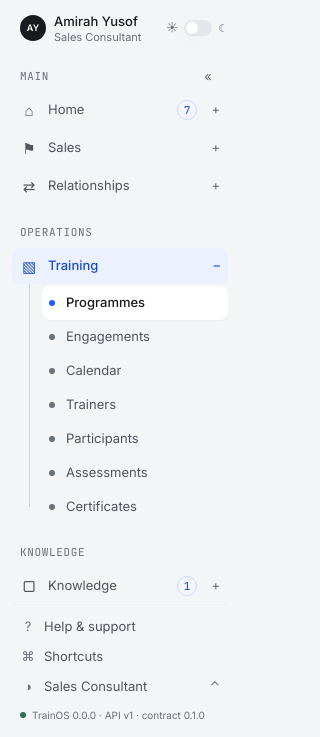
Test: Sidebar › the rail collapses, from the MAIN caption row › in the rail: icons with tooltips, counts as dots, the branch still lit
Click the button named "the sidebar".
click(208, 76)  # box [196,64,220,88]
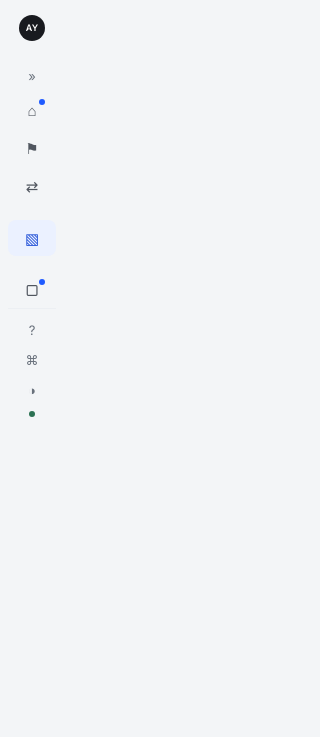
Now the link "Programmes" is gone
Now the text "Operations" is gone
